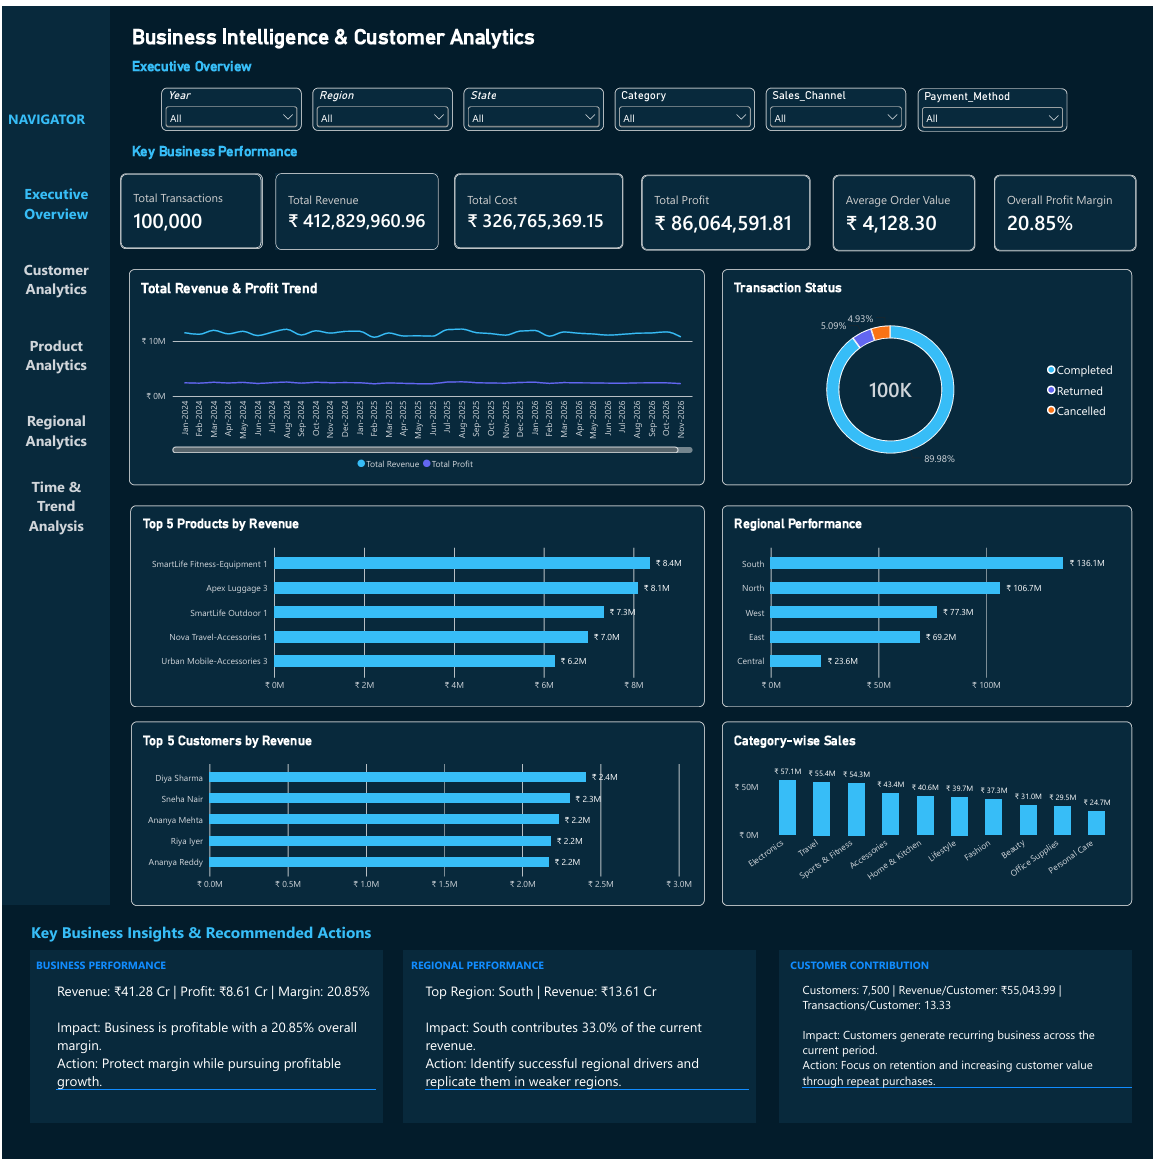

This screenshot's page, from the dashboard's own definition file:
{"tool":"powerbi","page":{"name":"Executive Overview","canvas":[1600,1600],"ordinal":0},"visuals":[{"type":"cardVisual","fields":{"Data":["fact_transaction.Total Cost"]},"box":[628,232,235,105],"z":0},{"type":"cardVisual","fields":{"Data":["fact_transaction.Total Profit"]},"box":[888,234,235,105],"z":1000},{"type":"cardVisual","fields":{"Data":["fact_transaction.Total Transactions"]},"box":[164,232,197.5,105],"z":2000},{"type":"cardVisual","fields":{"Data":["fact_transaction.Average Order Value"]},"box":[1154,234,198,106],"z":3000},{"type":"cardVisual","fields":{"Data":["fact_transaction.Overall Profit Margin"]},"box":[1378,234,198,106],"z":4000},{"type":"lineChart","title":"Total Revenue & Profit Trend","fields":{"Category":["dim_date.Year_Month"],"Y":["fact_transaction.Total Revenue","fact_transaction.Total Profit"]},"box":[176.3,364.6,800,300],"z":5000},{"type":"donutChart","title":"Transaction Status","fields":{"Category":["fact_transaction.Transaction_Status"],"Y":["CountNonNull(fact_transaction.Transaction_Status)"]},"box":[1000.3,364.6,570,300],"z":6000},{"type":"shape","box":[0,0,149.8,1248.5],"z":7000},{"type":"textbox","box":[180,26,678,76],"z":9000},{"type":"textbox","box":[180,72,400,30],"z":10000},{"type":"slicer","fields":{"Values":["dim_date.Year"]},"box":[221.1,113.3,195,60],"z":11000},{"type":"slicer","fields":{"Values":["dim_geography.Region"]},"box":[431.1,113.3,195,60],"z":12000},{"type":"slicer","title":"State","fields":{"Values":["dim_geography.State"]},"box":[641.1,113.3,195,60],"z":13000},{"type":"slicer","title":"Category","fields":{"Values":["dim_product.Category"]},"box":[851.1,113.3,195,60],"z":14000},{"type":"slicer","title":"Sales_Channel","fields":{"Values":["fact_transaction.Sales_Channel"]},"box":[1061.1,113.3,195,60],"z":15000},{"type":"slicer","title":"Payment_Method","fields":{"Values":["fact_transaction.Payment_Method"]},"box":[1272,114,208,60],"z":16000},{"type":"textbox","box":[180,190,500,35],"z":17000},{"type":"cardVisual","fields":{"Data":["fact_transaction.Total Revenue"]},"box":[380,232,226,106],"z":18000},{"type":"clusteredBarChart","title":"Regional Performance","fields":{"Category":["dim_geography.Region"],"Y":["fact_transaction.Total Revenue"]},"box":[999.7,692.9,570,280],"z":19000},{"type":"clusteredBarChart","title":"Top 5 Products by Revenue","fields":{"Category":["dim_product.Product_Name"],"Y":["fact_transaction.Total Revenue"]},"box":[178,692.9,798.3,280],"z":20000},{"type":"clusteredBarChart","title":"Top 5 Customers by Revenue","fields":{"Category":["dim_customer.Customer_Name"],"Y":["fact_transaction.Total Revenue"]},"box":[178.7,993.2,797.1,255.7],"z":21000},{"type":"clusteredColumnChart","title":"Category-wise Sales","fields":{"Category":["dim_product.Category"],"Y":["fact_transaction.Total Revenue"]},"box":[1000.2,993.2,570,255.7],"z":22000},{"type":"pageNavigator","box":[15,225,120,520],"z":23000},{"type":"textbox","box":[8.3,143.3,141.7,30],"z":24000},{"type":"textbox","box":[40,1270,1520,41.4],"z":25000},{"type":"shape","box":[38.6,1311.4,490,240],"z":26000},{"type":"shape","box":[557.1,1311.4,490,240],"z":27000},{"type":"shape","box":[1080,1311.4,490,240],"z":28000},{"type":"textbox","box":[47,1321,207,25],"z":29000},{"type":"textbox","box":[76,1354,444,178],"z":30000},{"type":"textbox","box":[568,1321,295,25],"z":31000},{"type":"textbox","box":[588,1354,450,178],"z":32000},{"type":"textbox","box":[1095,1321,348,25],"z":33000},{"type":"textbox","box":[1112,1354,458,178],"z":34000}]}

Visuals, with their boxes in screenshot pixels (x1, y1, x2, y2), scaled from the page's 1600x1600 canvas onto the 1156x1164 screenshot:
cardVisual - fact_transaction.Total Cost: x1=454, y1=169, x2=624, y2=245
cardVisual - fact_transaction.Total Profit: x1=642, y1=170, x2=811, y2=247
cardVisual - fact_transaction.Total Transactions: x1=118, y1=169, x2=261, y2=245
cardVisual - fact_transaction.Average Order Value: x1=834, y1=170, x2=977, y2=247
cardVisual - fact_transaction.Overall Profit Margin: x1=996, y1=170, x2=1139, y2=247
"Total Revenue & Profit Trend" lineChart: x1=127, y1=265, x2=705, y2=483
"Transaction Status" donutChart: x1=723, y1=265, x2=1135, y2=483
shape: x1=0, y1=0, x2=108, y2=908
textbox: x1=130, y1=19, x2=620, y2=74
textbox: x1=130, y1=52, x2=419, y2=74
slicer - dim_date.Year: x1=160, y1=82, x2=301, y2=126
slicer - dim_geography.Region: x1=311, y1=82, x2=452, y2=126
"State" slicer: x1=463, y1=82, x2=604, y2=126
"Category" slicer: x1=615, y1=82, x2=756, y2=126
"Sales_Channel" slicer: x1=767, y1=82, x2=908, y2=126
"Payment_Method" slicer: x1=919, y1=83, x2=1069, y2=127
textbox: x1=130, y1=138, x2=491, y2=164
cardVisual - fact_transaction.Total Revenue: x1=275, y1=169, x2=438, y2=246
"Regional Performance" clusteredBarChart: x1=722, y1=504, x2=1134, y2=708
"Top 5 Products by Revenue" clusteredBarChart: x1=129, y1=504, x2=705, y2=708
"Top 5 Customers by Revenue" clusteredBarChart: x1=129, y1=723, x2=705, y2=909
"Category-wise Sales" clusteredColumnChart: x1=723, y1=723, x2=1134, y2=909
pageNavigator: x1=11, y1=164, x2=98, y2=542
textbox: x1=6, y1=104, x2=108, y2=126
textbox: x1=29, y1=924, x2=1127, y2=954
shape: x1=28, y1=954, x2=382, y2=1129
shape: x1=403, y1=954, x2=757, y2=1129
shape: x1=780, y1=954, x2=1134, y2=1129
textbox: x1=34, y1=961, x2=184, y2=979
textbox: x1=55, y1=985, x2=376, y2=1115
textbox: x1=410, y1=961, x2=624, y2=979
textbox: x1=425, y1=985, x2=750, y2=1115
textbox: x1=791, y1=961, x2=1043, y2=979
textbox: x1=803, y1=985, x2=1134, y2=1115
